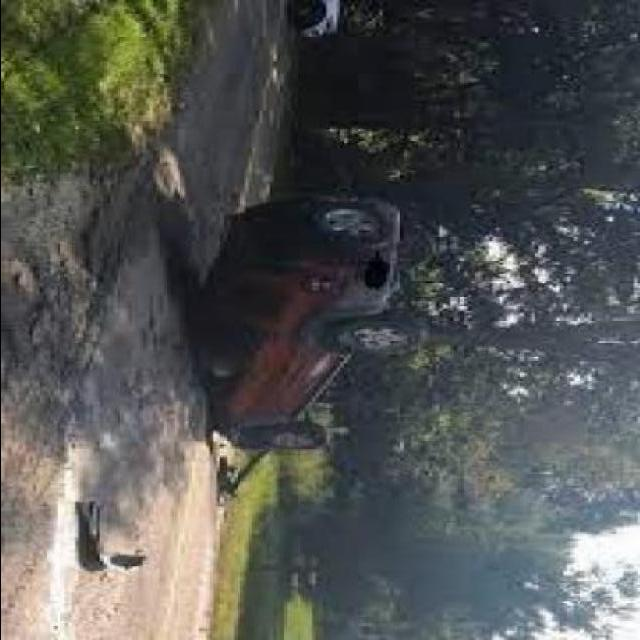accident: (190, 197, 448, 462)
